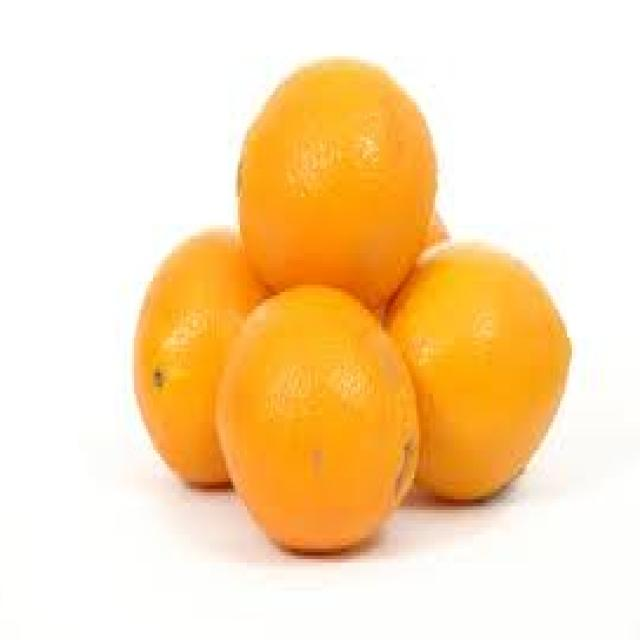orange: (122, 49, 586, 552)
